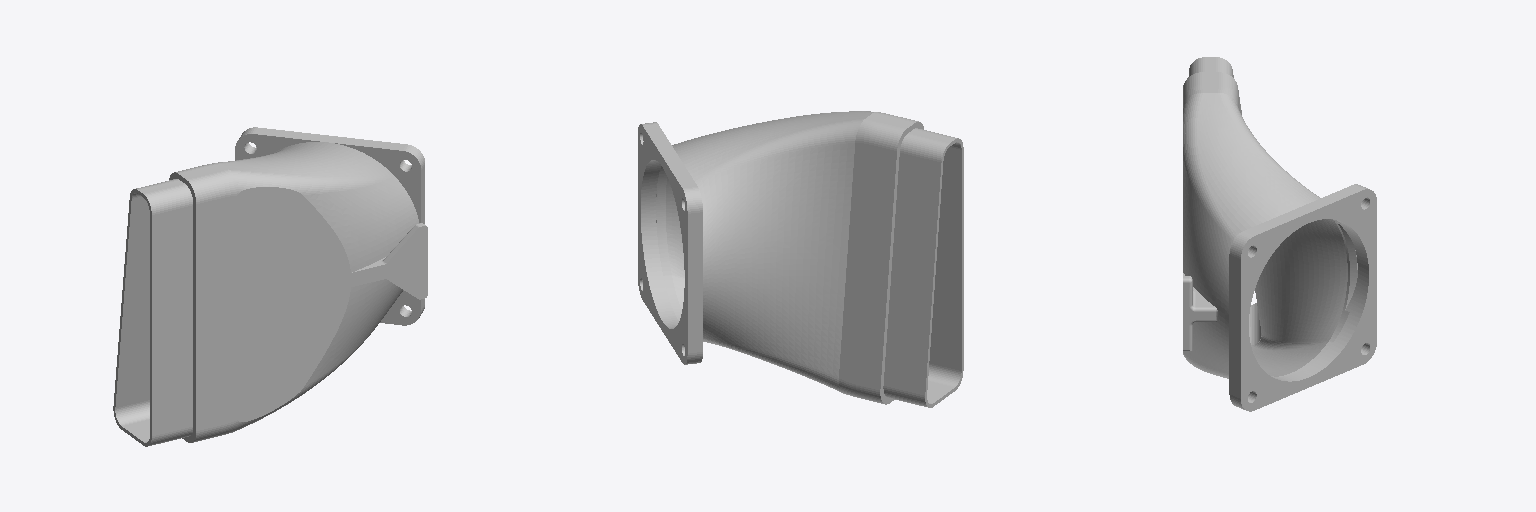
Rendered from fan_right.obj.
The picture shows the model from 3 angles: view 1: azimuth 30°, elevation 25°; view 2: azimuth 150°, elevation 25°; view 3: azimuth 270°, elevation 25°; orthographic projection.
Visible parts, largest first — view 1: 1; view 2: 1; view 3: 1.
Part boxes in pixels (bbox=[...]): 1: bbox=[113, 127, 427, 446]; 1: bbox=[638, 111, 963, 407]; 1: bbox=[1183, 57, 1376, 411].
Size of the model in its own units: 108 by 90 by 60.47.